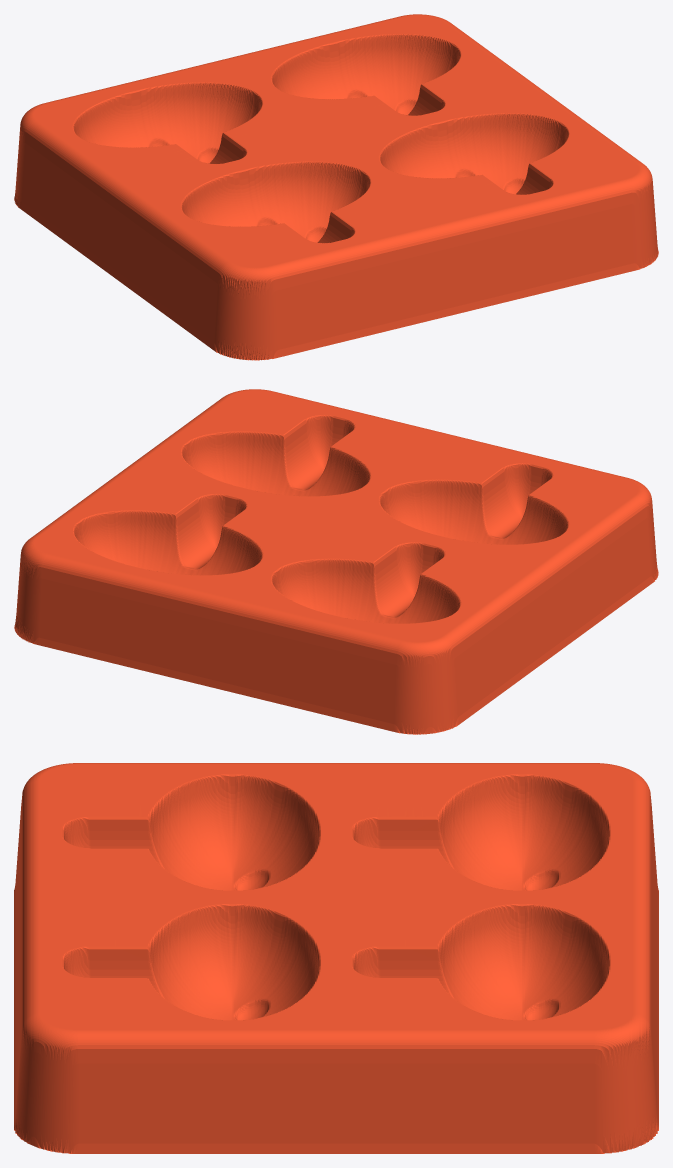
File: mold.glb
3 renders of one model, top to bottom at view 1: azimuth 30°, elevation 25°; view 2: azimuth 150°, elevation 25°; view 3: azimuth 270°, elevation 25°, orthographic. The views are drawn at different scales.
Visible parts, largest first — view 1: geometry_0; view 2: geometry_0; view 3: geometry_0.
Boxes of the visible parts, x1=… form: geometry_0: x1=14, y1=14, x2=658, y2=360; geometry_0: x1=14, y1=389, x2=658, y2=734; geometry_0: x1=14, y1=763, x2=658, y2=1153.
Size of the model in its own units: 0.0952 by 0.0175 by 0.0904.
